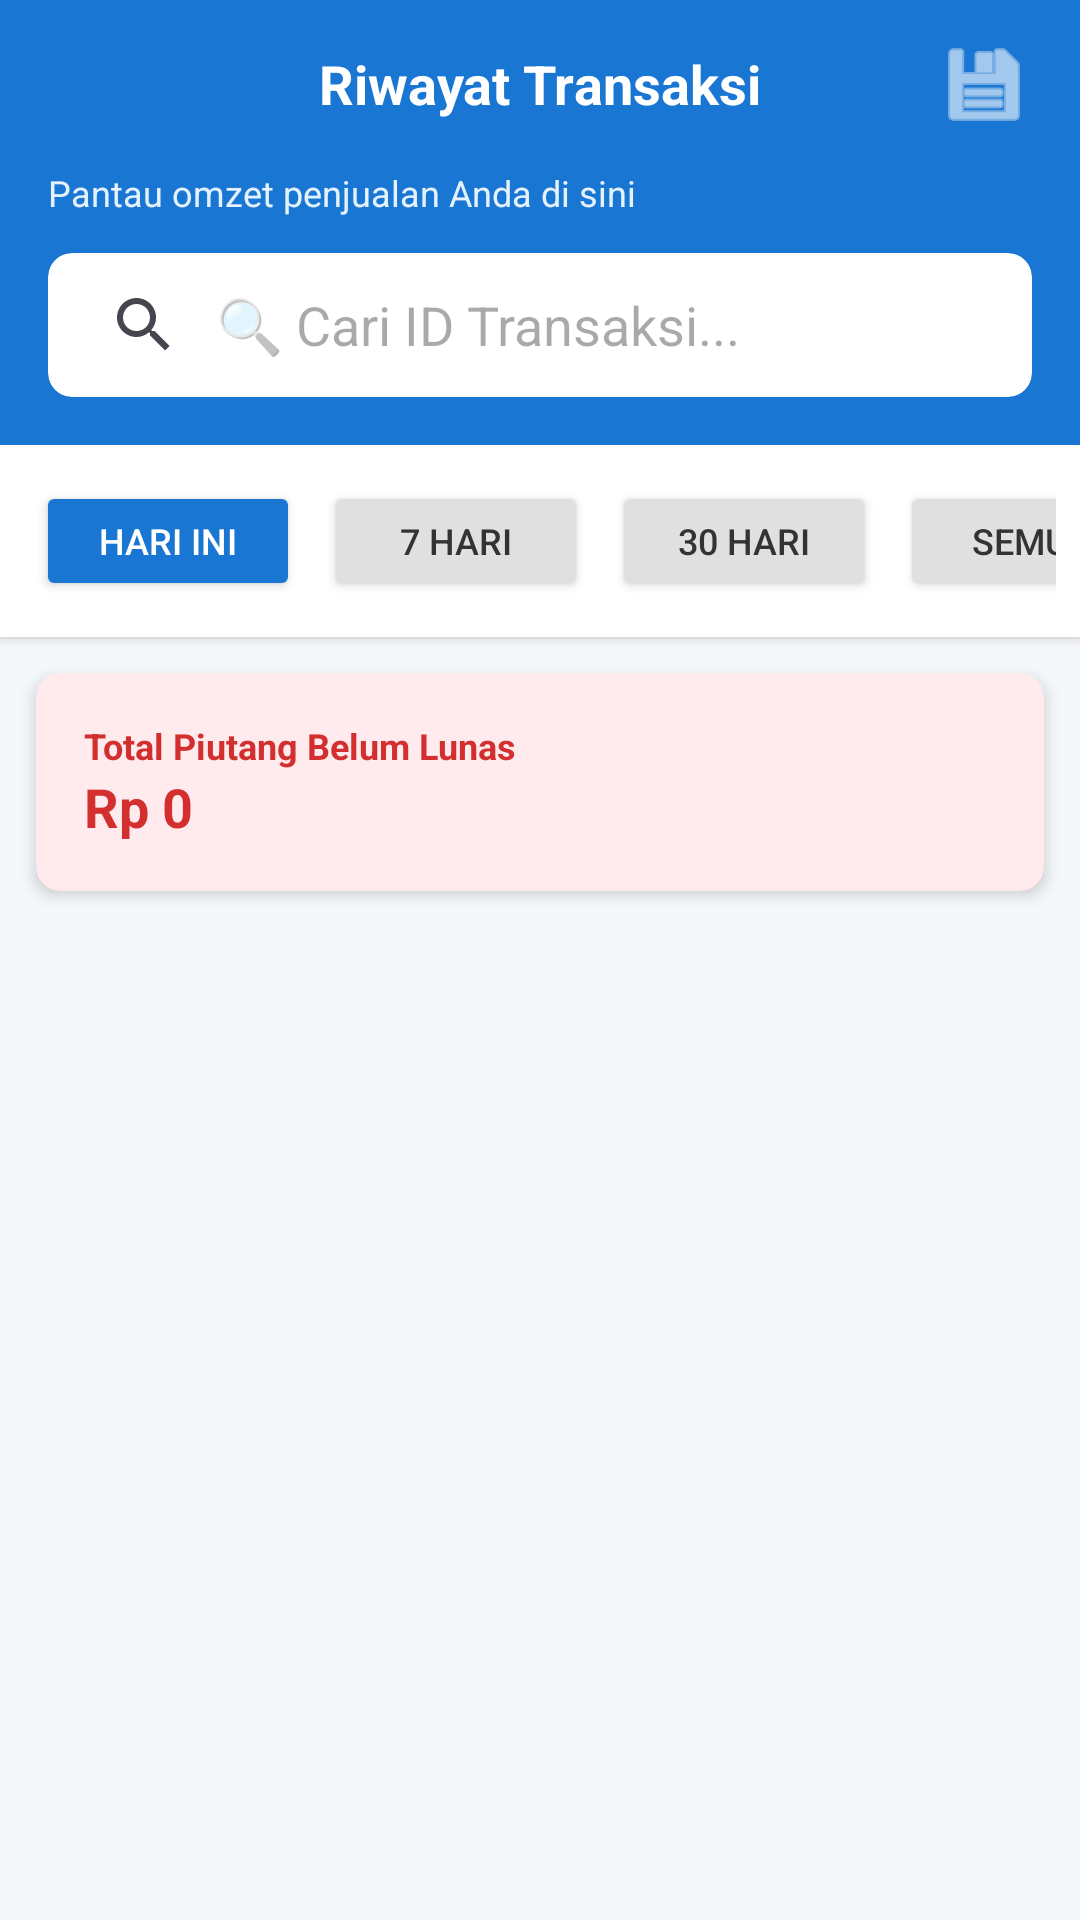

Where icons sit on this 1080*1920 app screen, as (x1,y1,x2,y2):
save: (948,48,1020,121)
